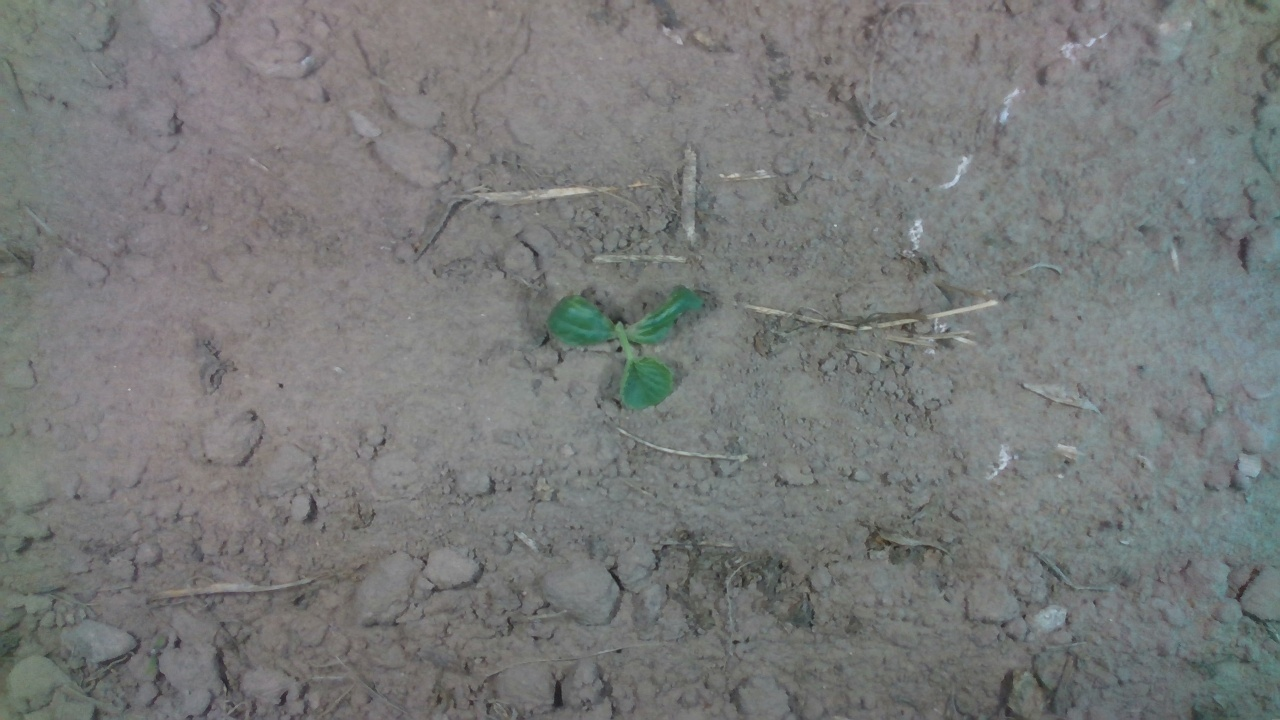crop: (544, 282, 705, 414)
